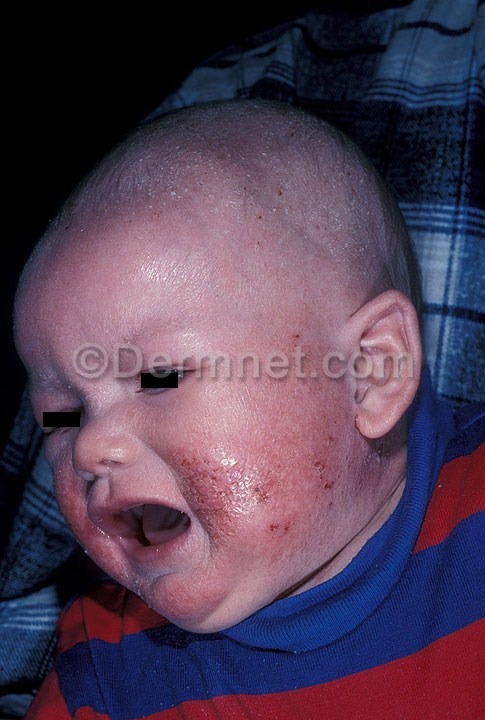Eczema: (29, 130, 379, 355), (174, 430, 386, 577), (57, 461, 95, 545), (151, 579, 210, 617)
